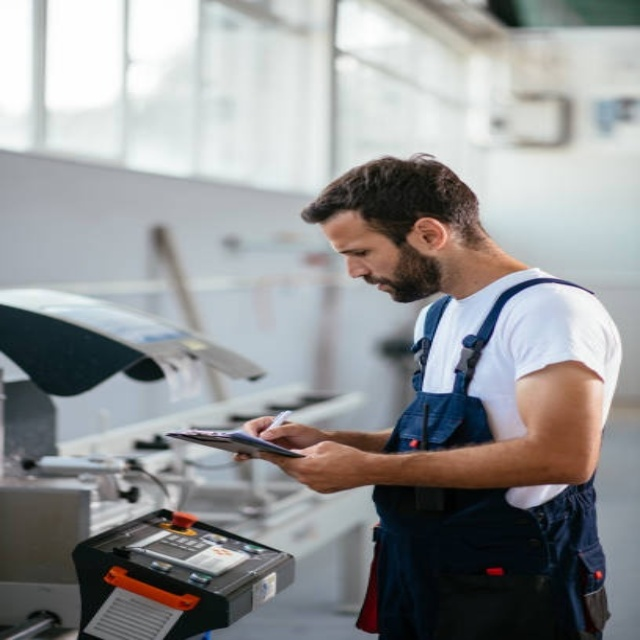Sin_gafas: (333, 235, 391, 265)
Sin_guantes: (267, 433, 372, 496), (232, 413, 320, 441)
Sin_mascara: (350, 271, 413, 301)
